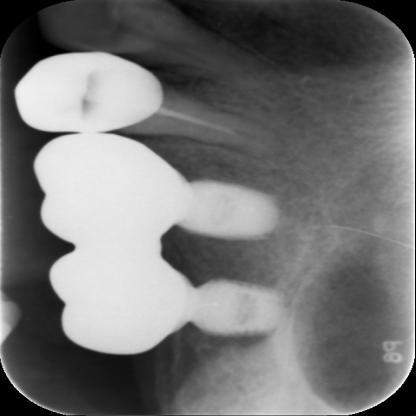Bicon: (174, 278, 284, 342)
